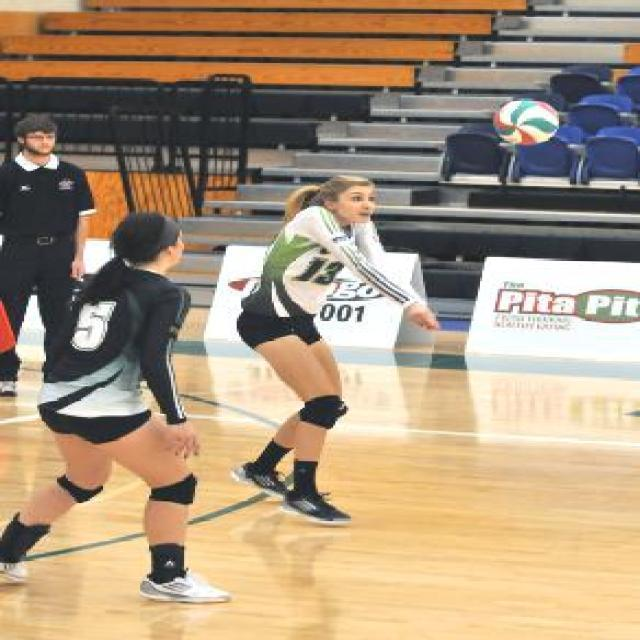volleyball: (493, 99, 559, 144)
